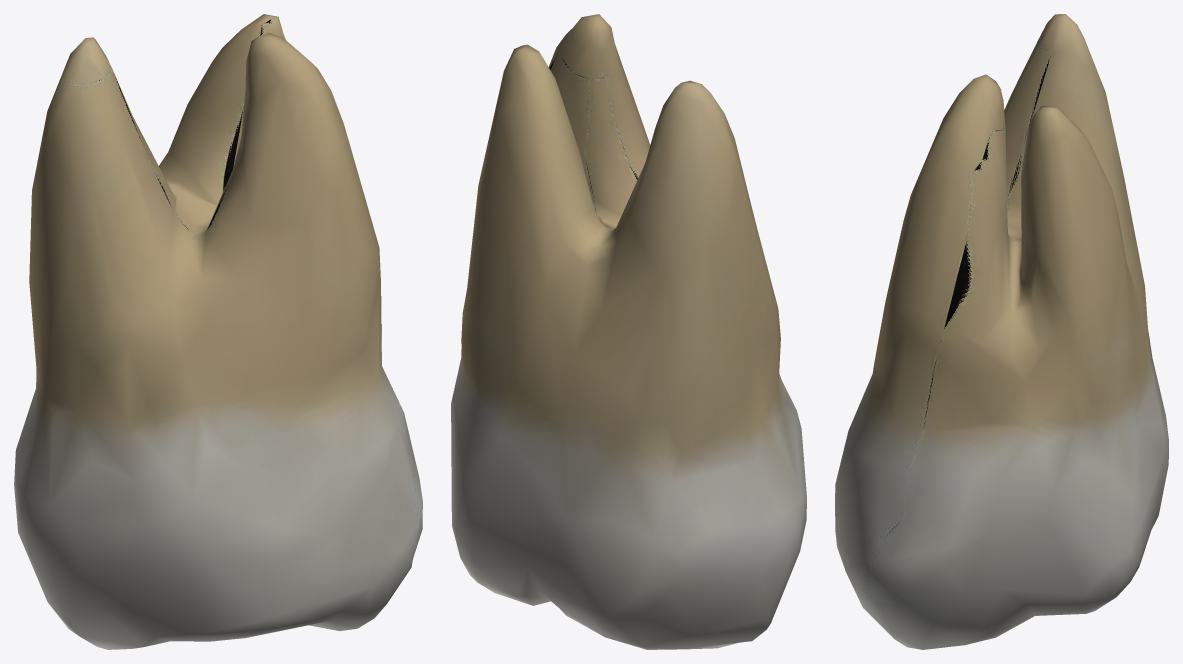
Rendered from maxillary_third_molar.glb.
3 views of the same model, side by side, from view 1: azimuth 30°, elevation 25°; view 2: azimuth 150°, elevation 25°; view 3: azimuth 270°, elevation 25° (orthographic). The views are drawn at different scales.
Parts seen in each view (by area): view 1: Object_2; view 2: Object_2; view 3: Object_2.
Part boxes in pixels (left/top/right/bottom): Object_2: left=14, top=14, right=422, bottom=649; Object_2: left=451, top=14, right=806, bottom=649; Object_2: left=835, top=14, right=1168, bottom=649.
Size of the model in its own units: 0.9389 by 1.54 by 0.8437.
Materials: 1 (1 with a texture image).
